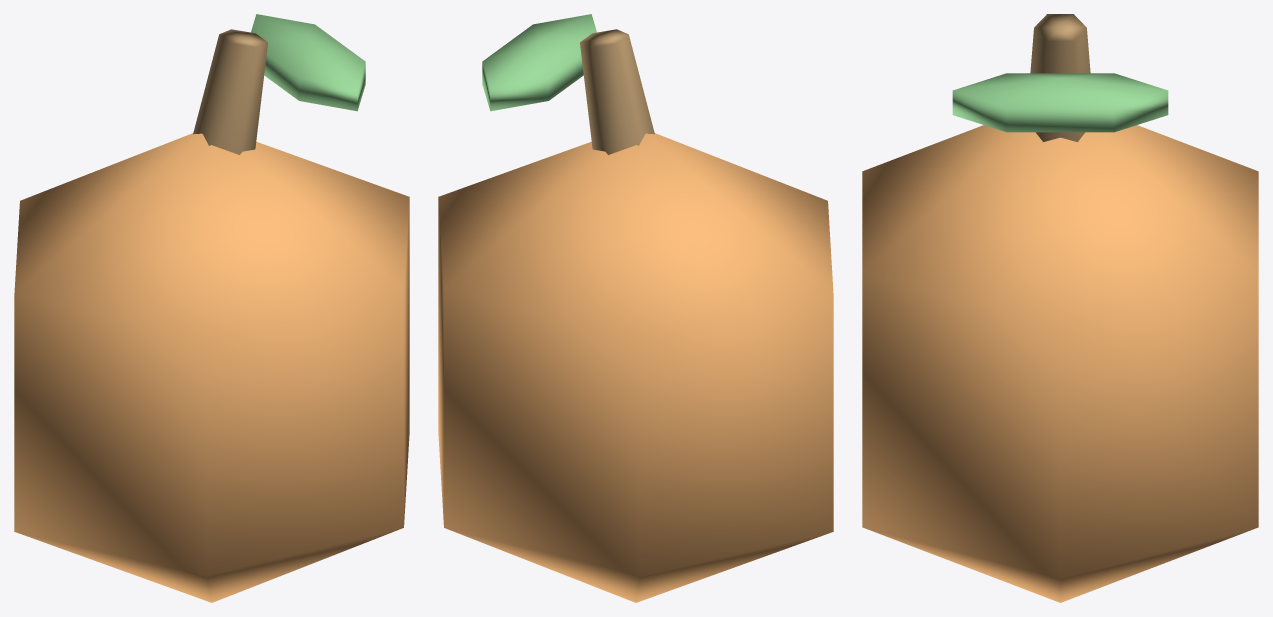
File: fruit_pickup_low.glb
3 renders of one model, left to right at view 1: azimuth 30°, elevation 25°; view 2: azimuth 150°, elevation 25°; view 3: azimuth 270°, elevation 25°, orthographic. The views are drawn at different scales.
Size of the model in its own units: 0.3118 by 0.423 by 0.255.
